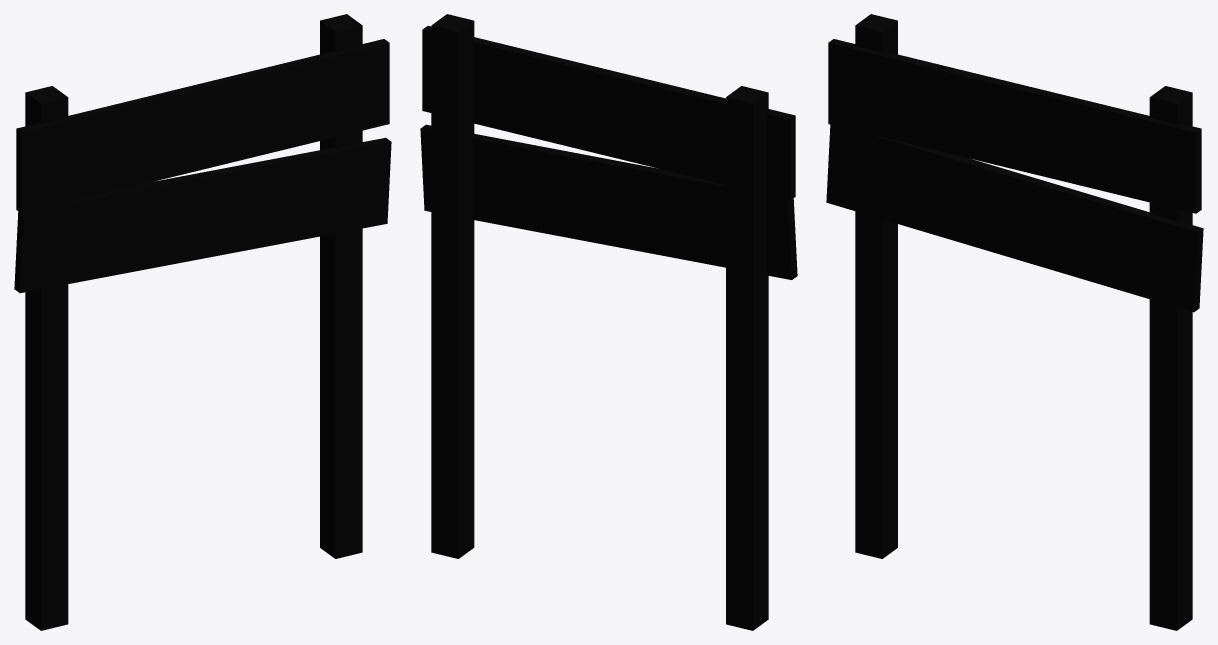
Rendered from SM_sign_trespassers.fbx.
3 views of the same model, side by side, from view 1: azimuth 30°, elevation 25°; view 2: azimuth 150°, elevation 25°; view 3: azimuth 330°, elevation 25° (orthographic).
Parts seen in each view (by area): view 1: sign_trespassers; view 2: sign_trespassers; view 3: sign_trespassers.
Boxes of the visible parts, x1,y1,x2,y2 form: sign_trespassers: (14,14,391,630); sign_trespassers: (420,14,797,630); sign_trespassers: (826,14,1203,630).
Size of the model in its own units: 0.9592 by 1.3 by 0.0875.
